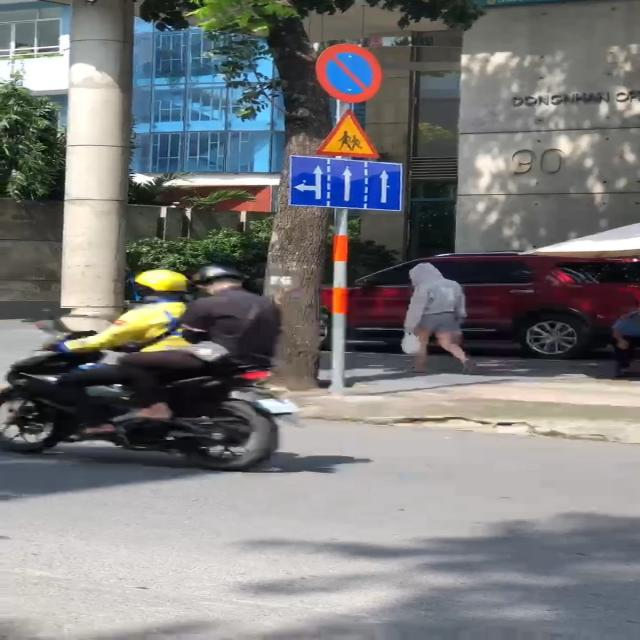Bien bao cam do xe: (314, 41, 390, 107)
Bien bao tre em: (307, 107, 388, 160)
